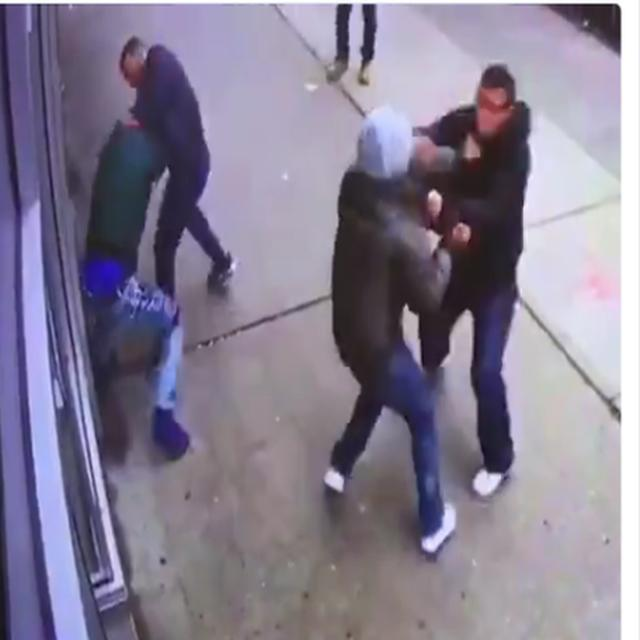fight: (334, 54, 561, 524), (62, 19, 216, 494)
